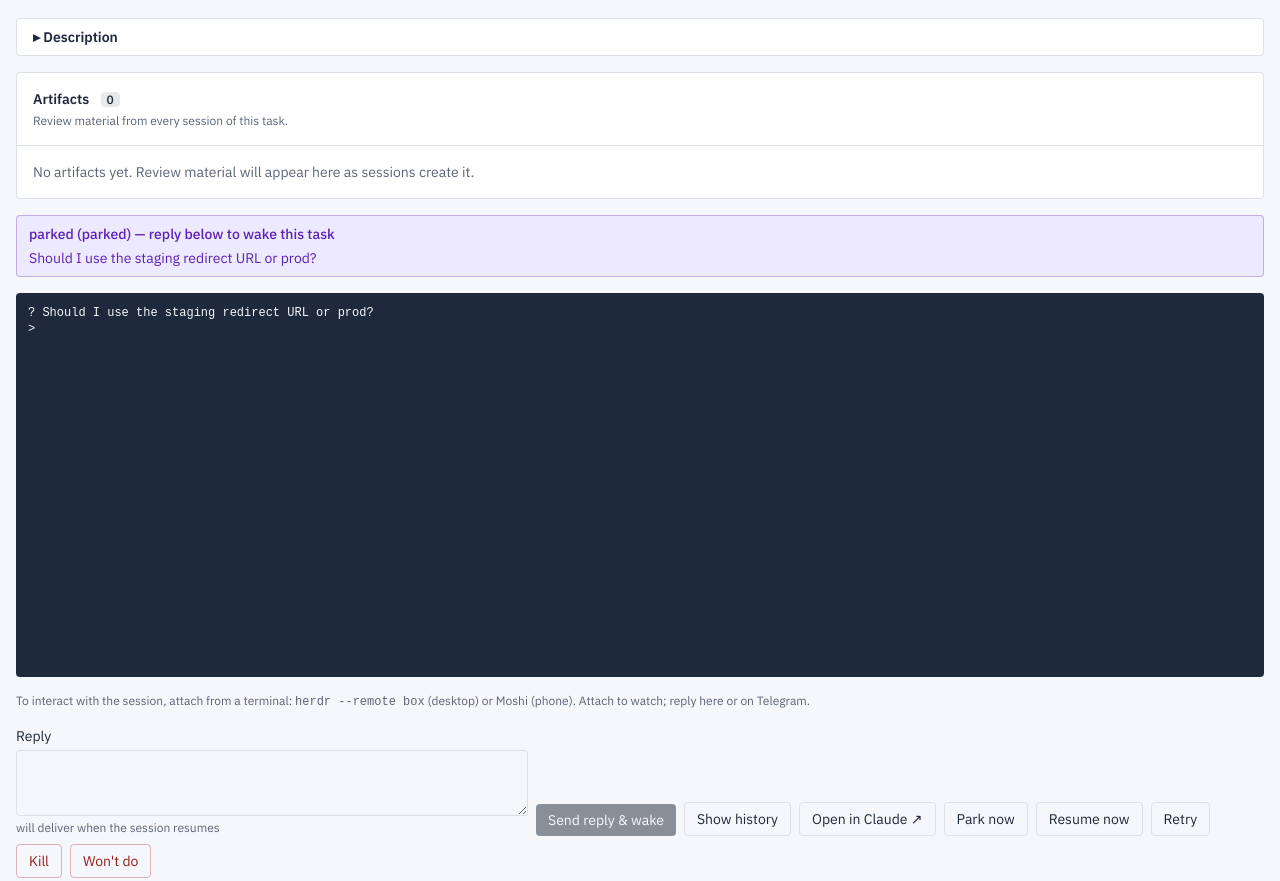
Test case: a later success clears the inline error
The image size is (1280, 881).
(page scrolled)
What coordinates should you click on to do the following:
click the button "Park now"
I would click on:
 (986, 819)
Its box is [944,802,1028,836].
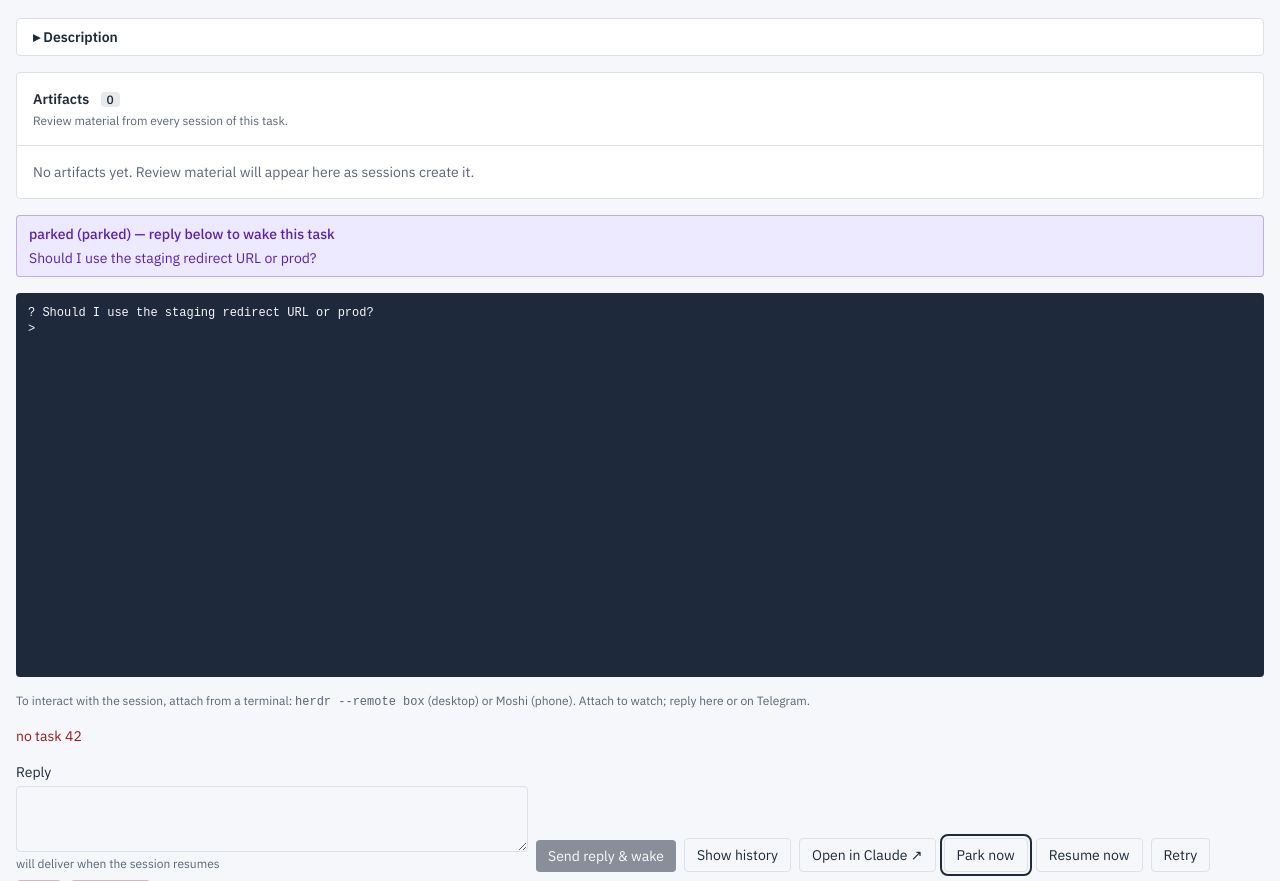
Result: the text "no task 42" is shown at [16,727,82,745]
What coordinates should you click on to do the following:
click the button "Park now"
I would click on:
 (986, 855)
Its box is [944,838,1028,872].
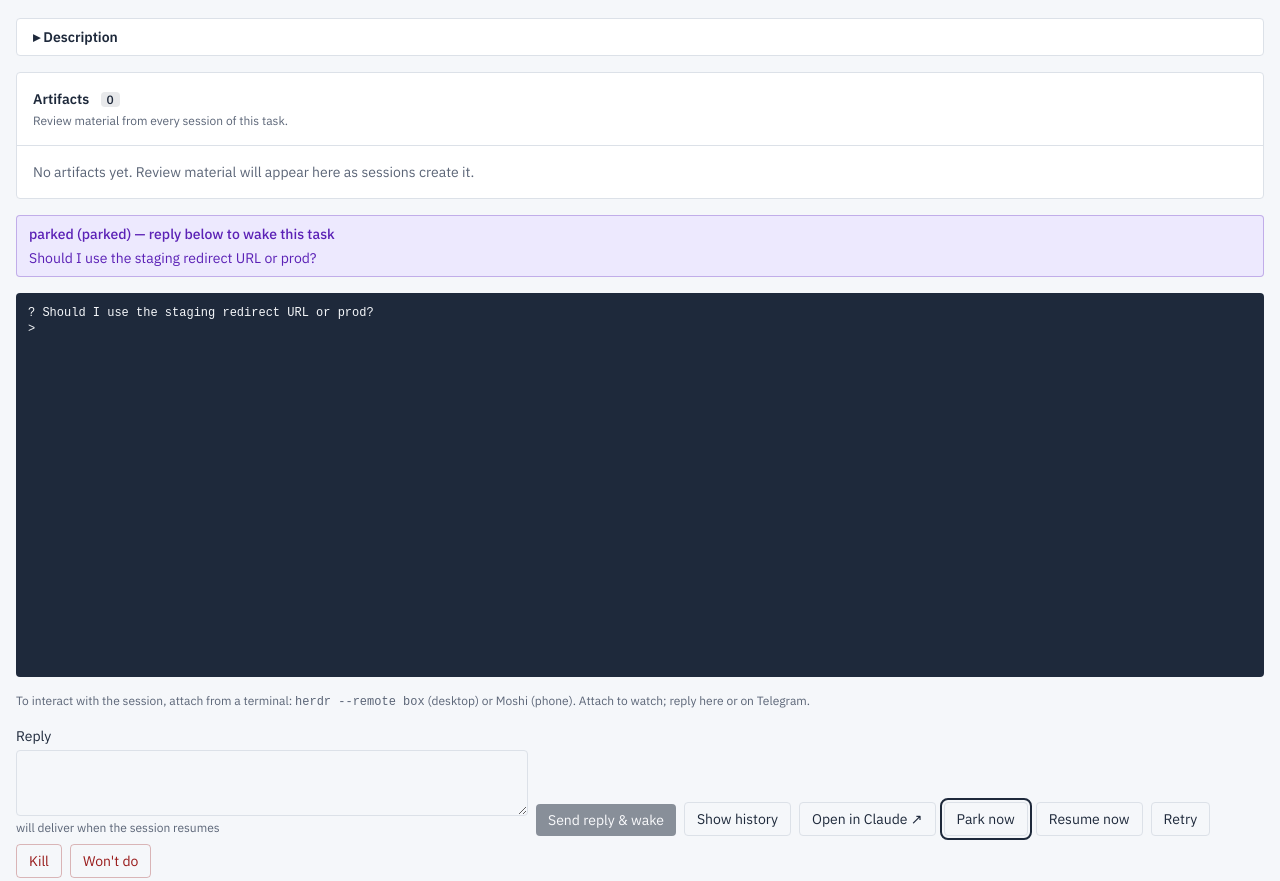
Result: the text with test id "action-error" is gone
